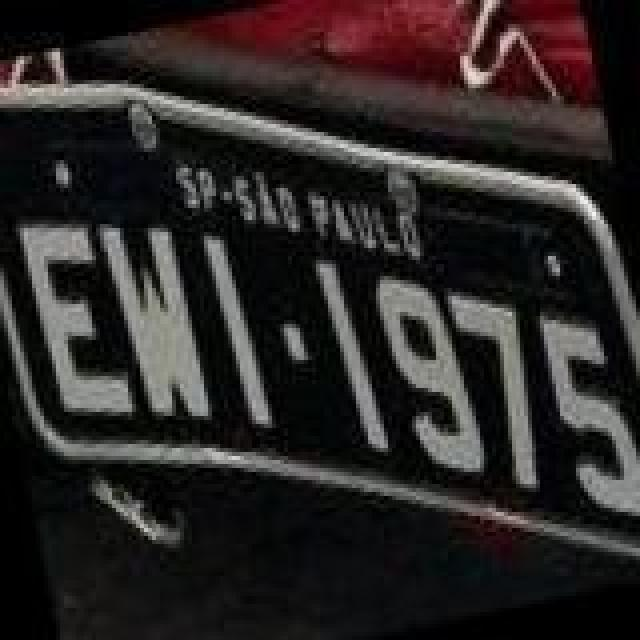1: (202, 226, 278, 430), (314, 254, 390, 458)
5: (536, 300, 640, 532)
7: (444, 282, 556, 502)
9: (372, 264, 492, 488)
E: (16, 208, 136, 432)
W: (98, 212, 214, 436)
